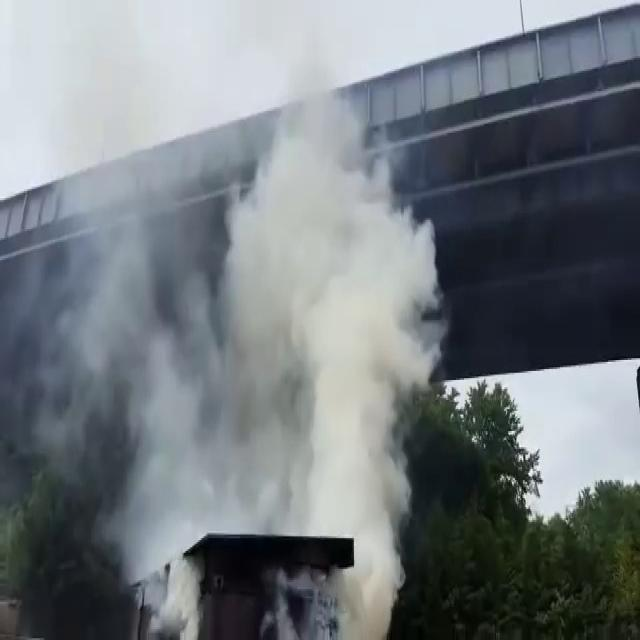Smoke: (96, 123, 417, 640)
